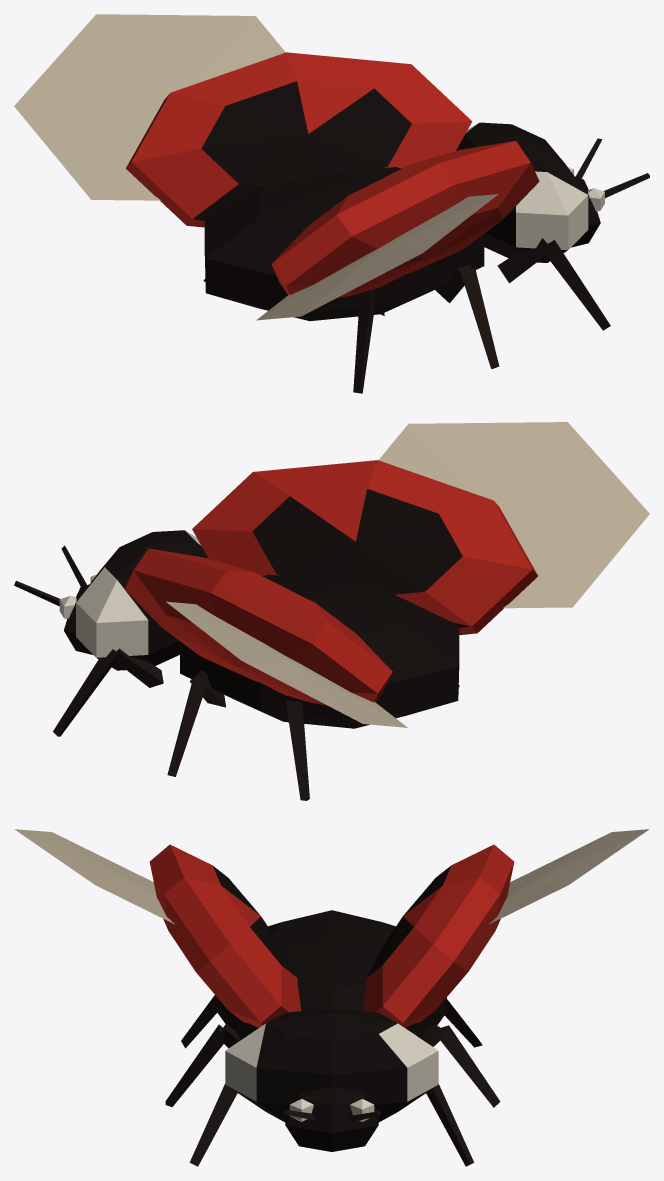
File: creatures-ladybug-flying.glb
3 views of the same model, one above another, from view 1: azimuth 30°, elevation 25°; view 2: azimuth 150°, elevation 25°; view 3: azimuth 270°, elevation 25° (orthographic). The views are drawn at different scales.
Size of the model in its own units: 12.22 by 5.3 by 14.73.
